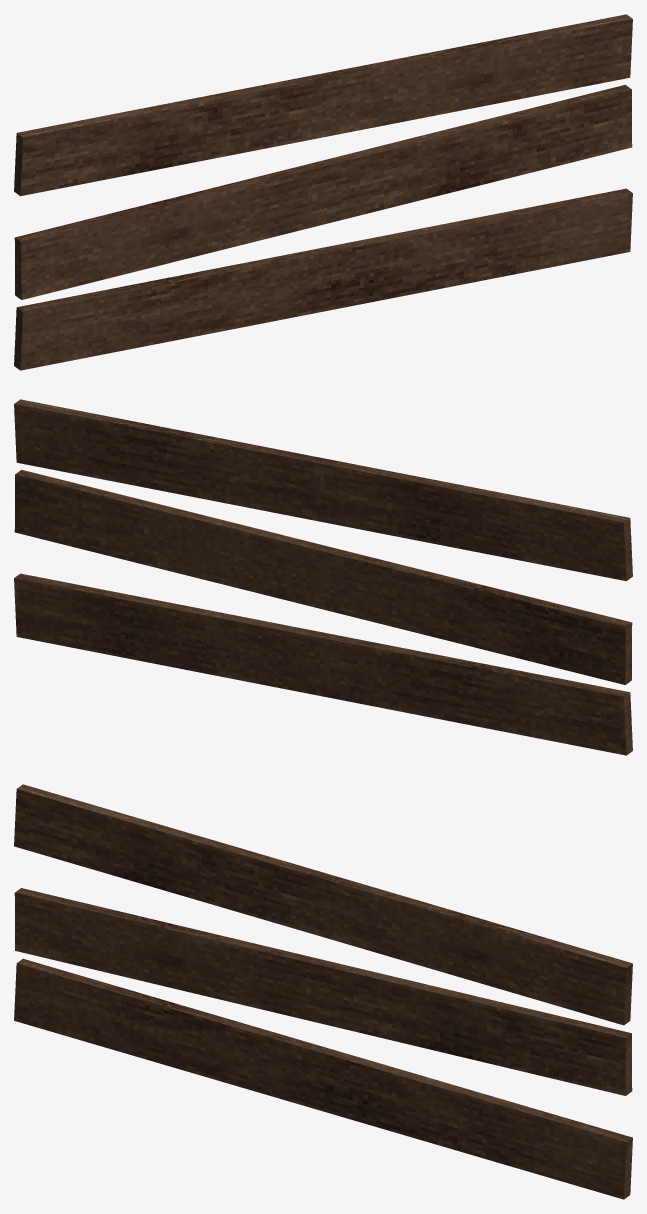
The model's file is planks_double_small_window.glb.
The picture shows the model from 3 angles, top to bottom: view 1: azimuth 30°, elevation 25°; view 2: azimuth 150°, elevation 25°; view 3: azimuth 330°, elevation 25°; orthographic projection.
Visible parts, largest first — view 1: planks_double_small_window2; view 2: planks_double_small_window2; view 3: planks_double_small_window2.
Part boxes in pixels (box(x1,y1,x2,y2)): planks_double_small_window2: box(14, 14, 632, 370); planks_double_small_window2: box(14, 399, 632, 755); planks_double_small_window2: box(14, 784, 632, 1199).
Size of the model in its own units: 2.21 by 0.9037 by 0.04.
Materials: 1 (1 with a texture image).
